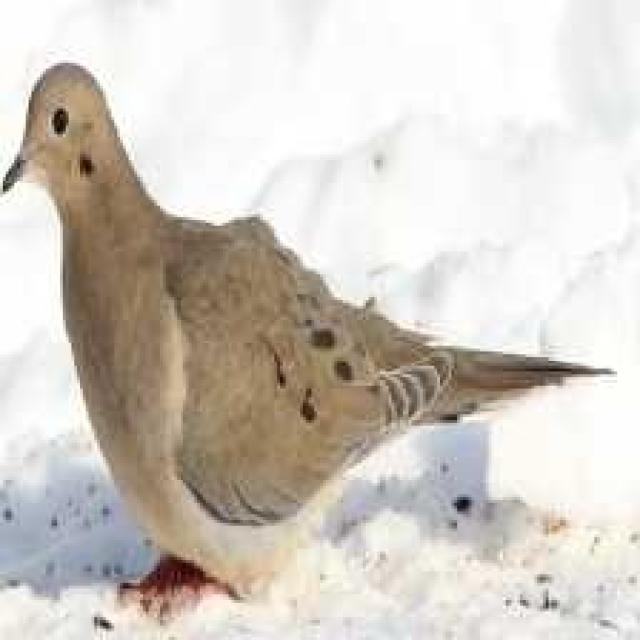dove: (1, 46, 619, 613)
